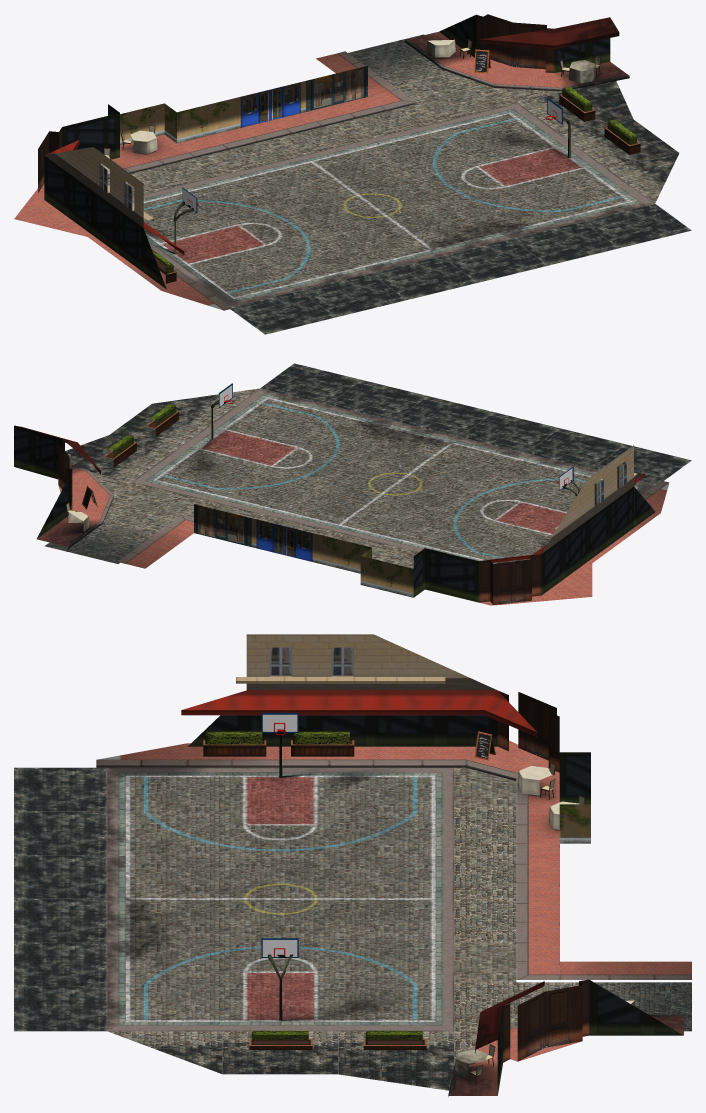
Rendered from court_paris_mesh.fbx.
3 views of the same model, one above another, from view 1: azimuth 30°, elevation 25°; view 2: azimuth 150°, elevation 25°; view 3: azimuth 270°, elevation 25° (orthographic). The views are drawn at different scales.
Parts seen in each view (by area): view 1: court_paris_mesh; view 2: court_paris_mesh; view 3: court_paris_mesh.
Part boxes in pixels (left/top/right/bottom): court_paris_mesh: left=14, top=14, right=691, bottom=334; court_paris_mesh: left=14, top=363, right=691, bottom=605; court_paris_mesh: left=14, top=634, right=691, bottom=1096.
Size of the model in its own units: 143 by 20.53 by 109.
